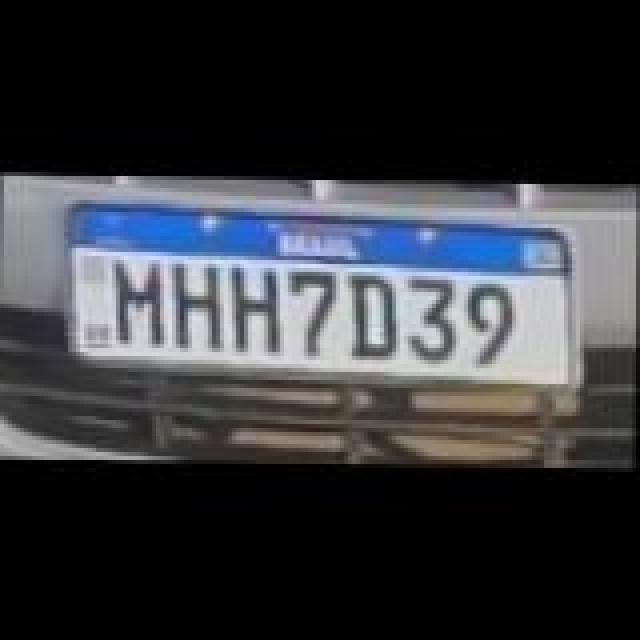5: (408, 270, 460, 358)
7: (290, 266, 346, 350)
9: (466, 282, 514, 366)
D: (346, 270, 402, 354)
H: (170, 260, 234, 352), (226, 262, 290, 350)
M: (110, 252, 174, 340)
